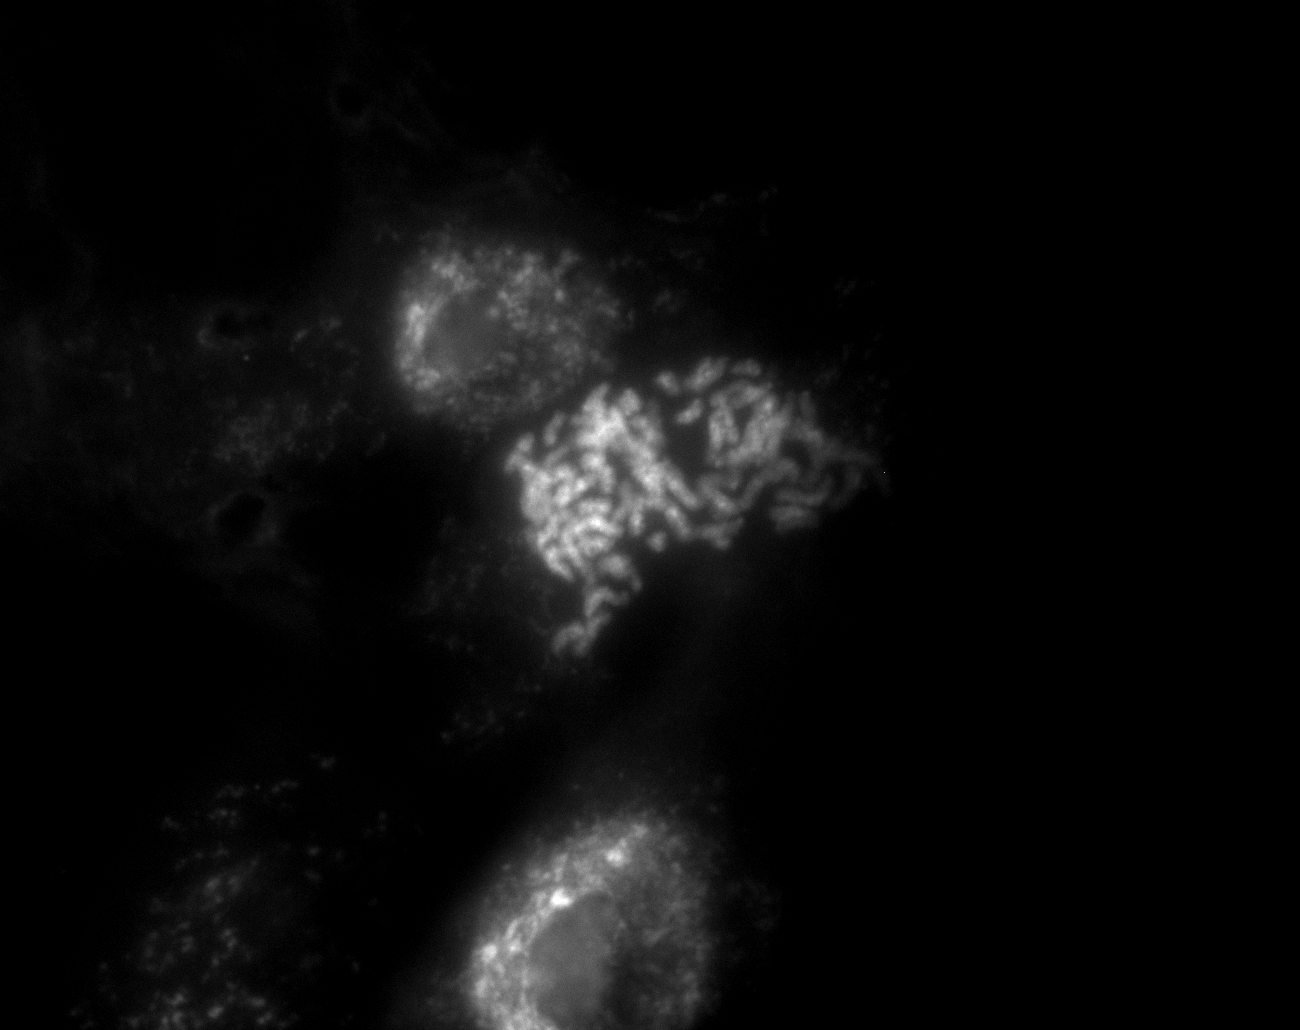Chromosomes: (460, 318, 876, 662)
Others: (377, 722, 787, 1030), (54, 750, 401, 1030), (359, 199, 607, 454)
